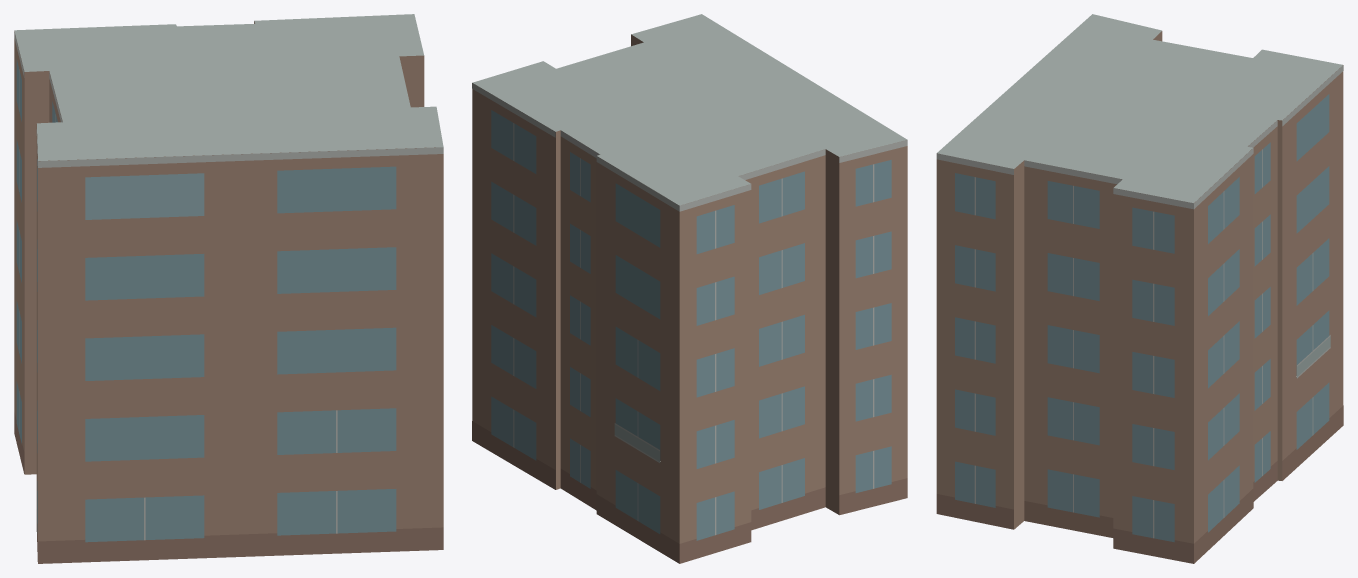
The model's file is survey-upis-32951136.glb.
The picture shows the model from 3 angles, left to right: view 1: azimuth 30°, elevation 25°; view 2: azimuth 150°, elevation 25°; view 3: azimuth 270°, elevation 25°; orthographic projection. The views are drawn at different scales.
Parts seen in each view (by area): view 1: survey-upis-32951136.tmp; view 2: survey-upis-32951136.tmp; view 3: survey-upis-32951136.tmp.
Part boxes in pixels (bbox=[...]): survey-upis-32951136.tmp: bbox=[14, 14, 443, 563]; survey-upis-32951136.tmp: bbox=[472, 14, 907, 563]; survey-upis-32951136.tmp: bbox=[936, 14, 1343, 563].
Size of the model in its own units: 16.21 by 14.4 by 14.73.
